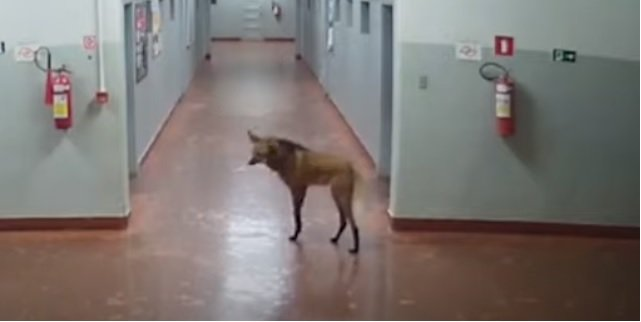LoboGuara: (238, 121, 369, 256)
